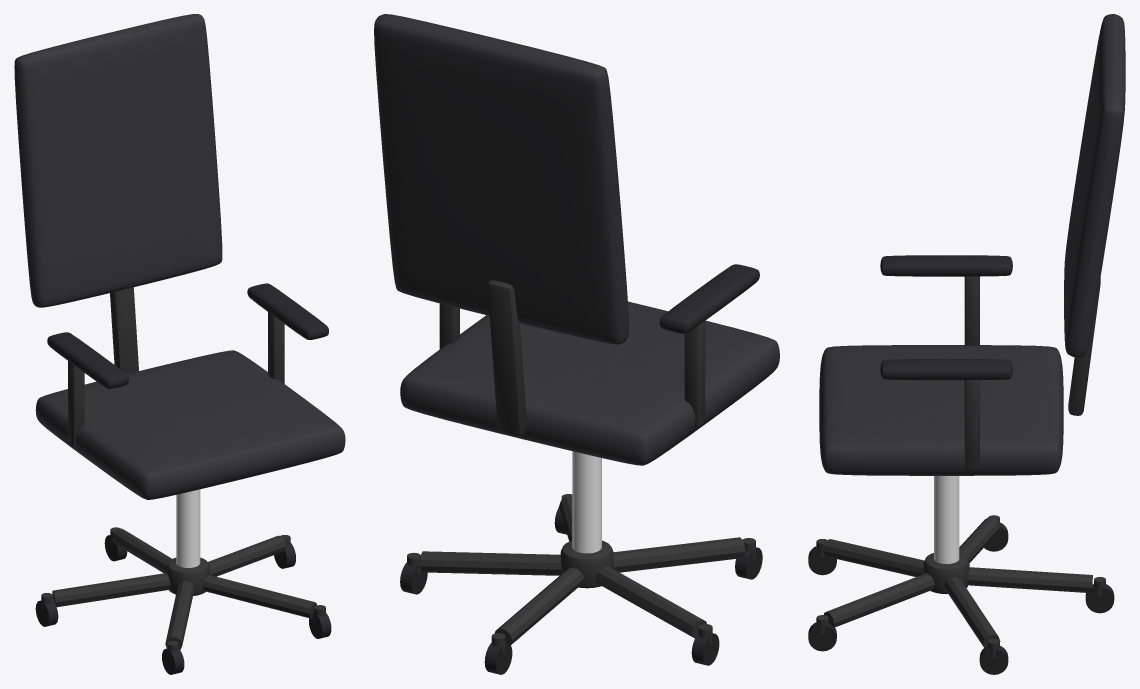
File: silla-oficina-v2.gltf
The picture shows the model from 3 angles, left to right: view 1: azimuth 30°, elevation 25°; view 2: azimuth 150°, elevation 25°; view 3: azimuth 270°, elevation 25°; orthographic projection. The views are drawn at different scales.
Parts seen in each view (by area): view 1: silla-oficina__f_malla_negra, silla-oficina__m_negro, silla-oficina__pl_negro, silla-oficina__k_cromo; view 2: silla-oficina__f_malla_negra, silla-oficina__m_negro, silla-oficina__pl_negro, silla-oficina__k_cromo; view 3: silla-oficina__f_malla_negra, silla-oficina__m_negro, silla-oficina__pl_negro, silla-oficina__k_cromo.
Part boxes in pixels (bbox=[...]): silla-oficina__f_malla_negra: bbox=[14, 14, 345, 499]; silla-oficina__m_negro: bbox=[41, 287, 325, 657]; silla-oficina__pl_negro: bbox=[35, 283, 331, 674]; silla-oficina__k_cromo: bbox=[176, 489, 200, 567]; silla-oficina__f_malla_negra: bbox=[374, 14, 779, 465]; silla-oficina__m_negro: bbox=[407, 280, 755, 654]; silla-oficina__pl_negro: bbox=[400, 264, 762, 674]; silla-oficina__k_cromo: bbox=[572, 451, 601, 553]; silla-oficina__f_malla_negra: bbox=[819, 14, 1125, 475]; silla-oficina__m_negro: bbox=[816, 276, 1105, 657]; silla-oficina__pl_negro: bbox=[808, 255, 1114, 674]; silla-oficina__k_cromo: bbox=[934, 476, 959, 563].
Size of the model in its own units: 0.5947 by 1.19 by 0.621.
4 materials, 1 textured.
